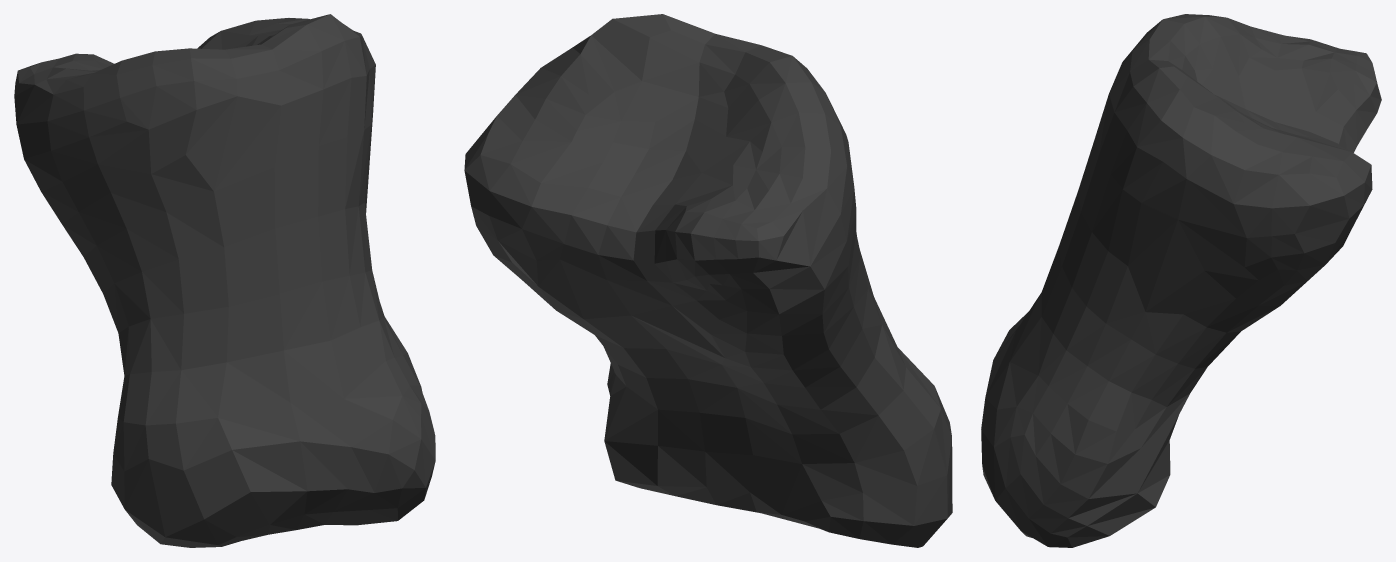
File: RHL_P1.glb
The picture shows the model from 3 angles, left to right: view 1: azimuth 30°, elevation 25°; view 2: azimuth 150°, elevation 25°; view 3: azimuth 270°, elevation 25°; orthographic projection. The views are drawn at different scales.
Visible parts, largest first — view 1: RHL_P1; view 2: RHL_P1; view 3: RHL_P1.
Part boxes in pixels (x1,y1,x2,y2): RHL_P1: [14, 14, 435, 547]; RHL_P1: [464, 14, 952, 547]; RHL_P1: [981, 14, 1381, 547].
Bounding box in the file's own units: 11.55 × 16.17 × 12.72.
Materials: 1 (1 with a texture image).
